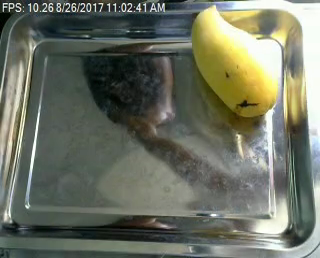Mango: (181, 1, 286, 123)
